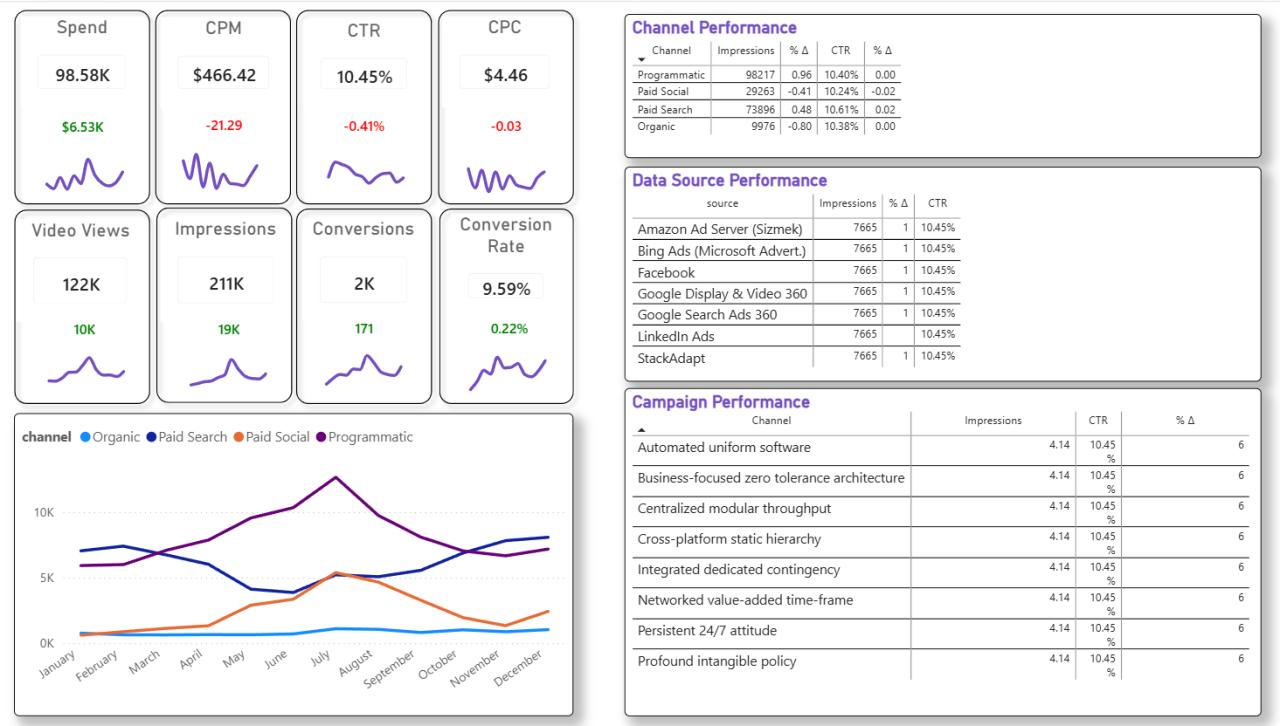

What the dashboard file says about the page in this screenshot:
{"tool":"powerbi","page":{"name":"Page 1","canvas":[1280,720],"ordinal":0},"visuals":[{"type":"group","id":"g1","title":"Sections","box":[0,0,566.7,405],"z":0},{"type":"cardVisual","title":"Spend","fields":{"Data":["Campaign_Performance.Total Spend"]},"box":[14.7,15.3,120.7,89.3],"z":1000},{"type":"cardVisual","title":"CPM","fields":{"Data":["Campaign_Performance.CPM"]},"box":[152,16,124.7,88.7],"z":2000},{"type":"cardVisual","title":"Conversions","fields":{"Data":["Campaign_Performance.Total Conversions"]},"box":[291.1,213.3,120,101.1],"z":3000},{"type":"cardVisual","title":"Conversion Rate","fields":{"Data":["Campaign_Performance.Conversion Rate"]},"box":[437.3,208.7,108.7,101.3],"z":4000},{"type":"lineChart","fields":{"Category":["Daily_Channel_Metrics.date.Variation.Date Hierarchy.Quarter","Daily_Channel_Metrics.date.Variation.Date Hierarchy.Month","Daily_Channel_Metrics.date.Variation.Date Hierarchy.Day"],"Y":["Campaign_Performance.Total Impressions"],"Series":["Daily_Channel_Metrics.channel"]},"box":[8.8,405,548.8,297.5],"z":5000},{"type":"pivotTable","title":"Channel Performance","fields":{"Values":["Campaign_Performance.Total Impressions","Campaign_Performance.Impressions % Change","Campaign_Performance.CTR","Campaign_Performance.CTR % Change"],"Rows":["Daily_Channel_Metrics.channel"]},"box":[607.5,12.5,625,141.2],"z":6000},{"type":"pivotTable","title":"Data Source Performance","fields":{"Rows":["Data_Source_Performance.source"],"Values":["Sum(Campaign_Performance.impressions)","CountNonNull(Data_Source_Performance.ctr_pct_change)","Campaign_Performance.CTR"]},"box":[607.5,162.5,625,211.2],"z":7000},{"type":"pivotTable","title":"Campaign Performance","fields":{"Rows":["Campaign_Performance.campaign"],"Values":["Sum(Data_Source_Performance.impressions_pct_change)","Campaign_Performance.CTR","CountNonNull(Data_Source_Performance.ctr_pct_change)"]},"box":[607.5,380,625,322.5],"z":8000},{"type":"lineChart","title":"Spend Change","fields":{"Y":["Campaign_Performance.Total Spend"],"Category":["Daily_Channel_Metrics.date"]},"box":[11.1,143.3,134.4,46.7],"z":9000},{"type":"cardVisual","fields":{"Data":["Campaign_Performance.CPM Change"]},"box":[162.1,78.8,102.1,83.3],"z":10000},{"type":"lineChart","title":"CPM Change","fields":{"Category":["Daily_Channel_Metrics.date"],"Y":["Campaign_Performance.CPM"]},"box":[144.4,141.1,132.2,47.8],"z":11000},{"type":"cardVisual","fields":{"Data":["Campaign_Performance.Spend Change"]},"box":[12,94,126.7,54],"z":12000},{"type":"cardVisual","title":"CTR","fields":{"Data":["Campaign_Performance.CTR"]},"box":[292,18,119.3,86.7],"z":13000},{"type":"lineChart","title":"CTR change","fields":{"Category":["Daily_Channel_Metrics.date"],"Y":["Campaign_Performance.CTR"]},"box":[286.7,142.2,133.3,46.7],"z":14000},{"type":"cardVisual","fields":{"Data":["Campaign_Performance.CTR Change"]},"box":[291.9,90.4,119.1,60.9],"z":15000},{"type":"cardVisual","title":"CPC","fields":{"Data":["Campaign_Performance.CPC"]},"box":[428.7,15.3,123.3,89.3],"z":16000},{"type":"lineChart","title":"CPC change","fields":{"Category":["Daily_Channel_Metrics.date"],"Y":["Campaign_Performance.CPC"]},"box":[424.4,147.8,134.4,47.8],"z":17000},{"type":"cardVisual","fields":{"Data":["Campaign_Performance.CPC Change"]},"box":[430.7,90.4,119.1,60.9],"z":18000},{"type":"cardVisual","title":"Video Views","fields":{"Data":["Campaign_Performance.Total Video Views"]},"box":[11.1,214.4,126.7,101.1],"z":19000},{"type":"cardVisual","fields":{"Data":["Campaign_Performance.Video Views Change"]},"box":[19.7,278.5,115.5,82.4],"z":20000},{"type":"lineChart","title":"Total Video Views","fields":{"Category":["Daily_Channel_Metrics.date"],"Y":["Campaign_Performance.Total Video Views"]},"box":[12.7,332.7,133.3,47.3],"z":21000},{"type":"cardVisual","title":"Impressions","fields":{"Data":["Campaign_Performance.Total Impressions"]},"box":[152,213.3,128,102],"z":22000},{"type":"lineChart","title":"Total Impresions","fields":{"Category":["Daily_Channel_Metrics.date"],"Y":["Campaign_Performance.Total Impressions"]},"box":[152,342,133.3,47.3],"z":23000},{"type":"cardVisual","fields":{"Data":["Campaign_Performance.Conversions Change"]},"box":[293.7,287.5,115.5,63.6],"z":24000},{"type":"lineChart","title":"Total Impresions","fields":{"Category":["Daily_Channel_Metrics.date"],"Y":["Campaign_Performance.Total Conversions"]},"box":[284.7,336,133.3,48],"z":25000},{"type":"cardVisual","fields":{"Data":["Campaign_Performance.Impressions Change"]},"box":[171,283.9,94,71.6],"z":26000},{"type":"lineChart","title":"Total Impresions","fields":{"Category":["Daily_Channel_Metrics.date"],"Y":["Campaign_Performance.Conversion Rate"]},"box":[426,337.3,133.3,46.7],"z":27000},{"type":"shape","box":[416.2,195,150,210],"z":27500,"group":"g1"},{"type":"shape","box":[415.6,0,151.1,208.9],"z":28000,"group":"g1"},{"type":"cardVisual","fields":{"Data":["Campaign_Performance.Conv Rate Change"]},"box":[437,293.7,113.7,51.9],"z":28000},{"type":"shape","box":[137.8,0,151.1,208.9],"z":28500,"group":"g1"},{"type":"shape","box":[276.7,0,151.1,208.9],"z":29000,"group":"g1"},{"type":"shape","box":[0,0,151.1,208.9],"z":31000,"group":"g1"},{"type":"shape","box":[0,195.6,151.1,208.9],"z":32000,"group":"g1"},{"type":"shape","box":[138.8,193.8,151.2,210],"z":33000,"group":"g1"},{"type":"shape","box":[276.2,195,151.2,210],"z":34000,"group":"g1"}]}

Visuals, with their boxes in screenshot pixels (x1, y1, x2, y2), scaled from the page's 1280x720 canvas onto the 1280x726 screenshot:
"Sections" group: 0,0,567,408
"Spend" cardVisual: 15,15,135,105
"CPM" cardVisual: 152,16,277,106
"Conversions" cardVisual: 291,215,411,317
"Conversion Rate" cardVisual: 437,210,546,313
lineChart - Daily_Channel_Metrics.date.Variation.Date Hierarchy.Quarter x Daily_Channel_Metrics.date.Variation.Date Hierarchy.Month: 9,408,558,708
"Channel Performance" pivotTable: 608,13,1232,155
"Data Source Performance" pivotTable: 608,164,1232,377
"Campaign Performance" pivotTable: 608,383,1232,708
"Spend Change" lineChart: 11,144,146,192
cardVisual - Campaign_Performance.CPM Change: 162,79,264,163
"CPM Change" lineChart: 144,142,277,190
cardVisual - Campaign_Performance.Spend Change: 12,95,139,149
"CTR" cardVisual: 292,18,411,106
"CTR change" lineChart: 287,143,420,190
cardVisual - Campaign_Performance.CTR Change: 292,91,411,153
"CPC" cardVisual: 429,15,552,105
"CPC change" lineChart: 424,149,559,197
cardVisual - Campaign_Performance.CPC Change: 431,91,550,153
"Video Views" cardVisual: 11,216,138,318
cardVisual - Campaign_Performance.Video Views Change: 20,281,135,364
"Total Video Views" lineChart: 13,335,146,383
"Impressions" cardVisual: 152,215,280,318
"Total Impresions" lineChart: 152,345,285,393
cardVisual - Campaign_Performance.Conversions Change: 294,290,409,354
"Total Impresions" lineChart: 285,339,418,387
cardVisual - Campaign_Performance.Impressions Change: 171,286,265,358
"Total Impresions" lineChart: 426,340,559,387
shape: 416,197,566,408
shape: 416,0,567,211
cardVisual - Campaign_Performance.Conv Rate Change: 437,296,551,348
shape: 138,0,289,211
shape: 277,0,428,211
shape: 0,0,151,211
shape: 0,197,151,408
shape: 139,195,290,407
shape: 276,197,427,408
